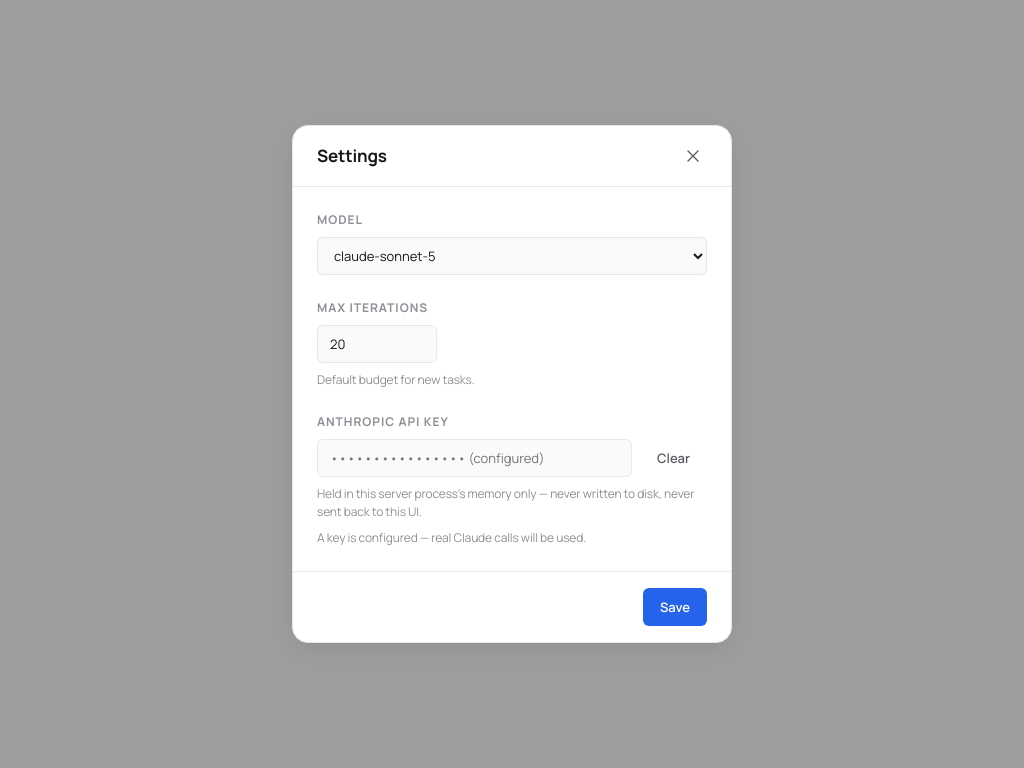
Test: SettingsModal › clears the key via the Clear button
Click the button "Clear": (674, 458) [640,439,707,477]
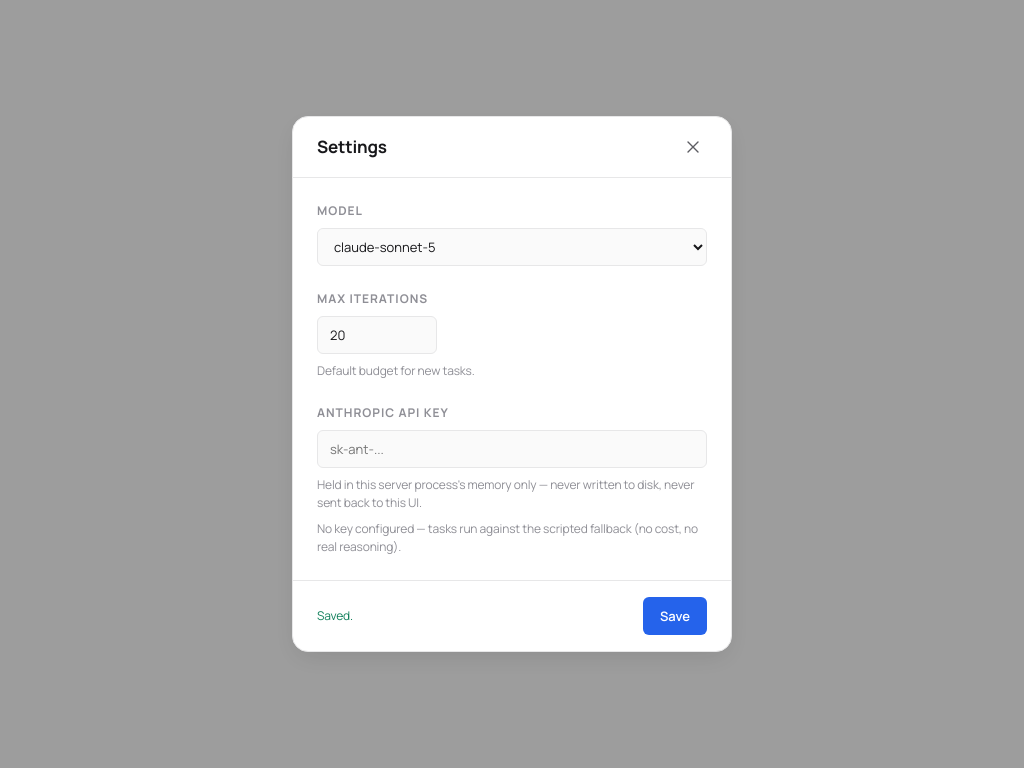
Check: the text "Saved." is shown, box [317,607,353,625]
